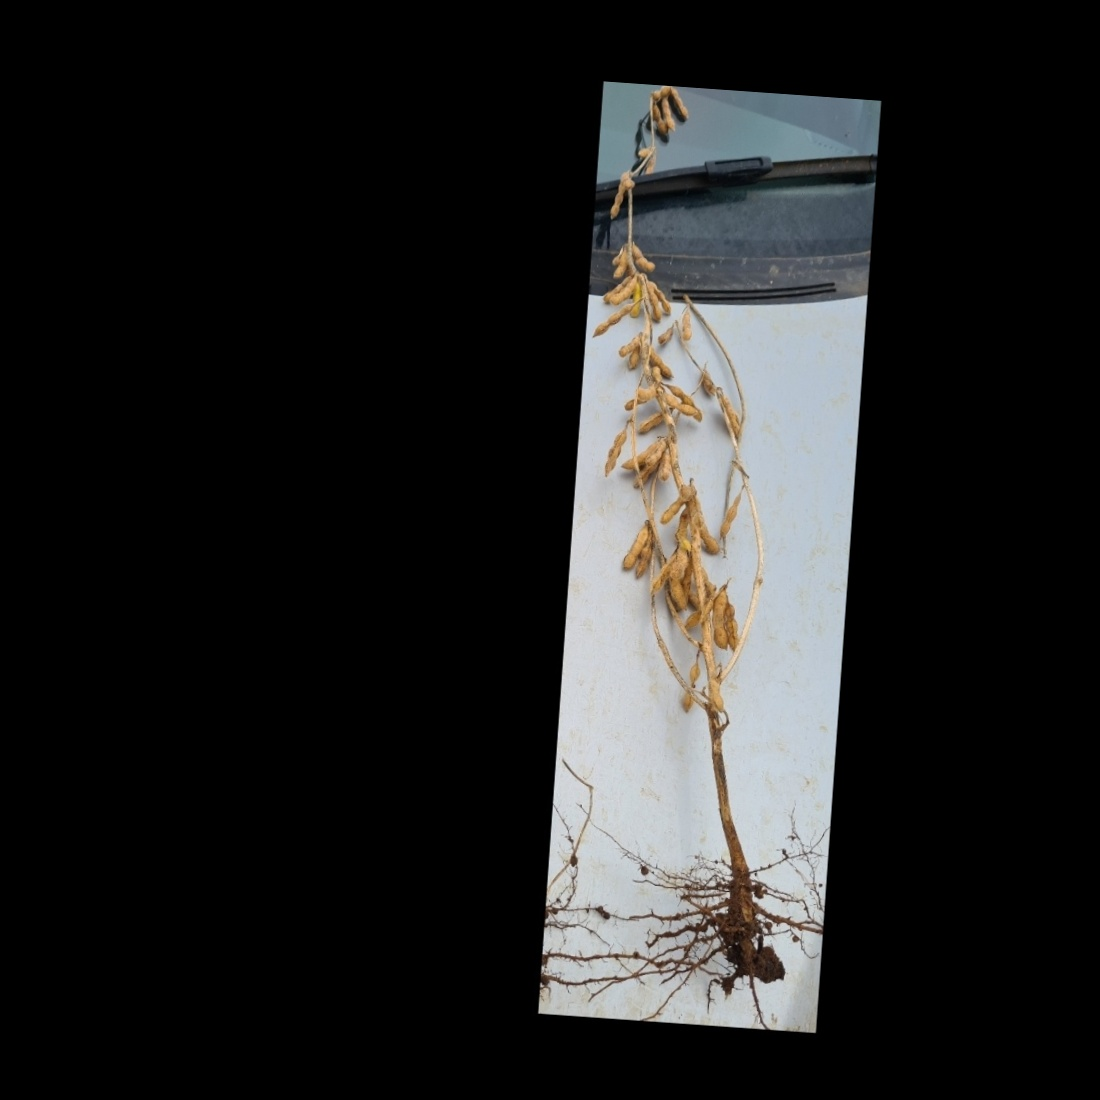pod: (714, 483, 751, 543), (708, 583, 737, 651), (599, 422, 631, 485), (590, 299, 634, 341), (617, 524, 650, 576), (716, 598, 745, 653), (657, 487, 691, 529), (604, 273, 640, 308), (664, 82, 693, 123), (661, 392, 706, 416), (606, 179, 630, 223), (647, 104, 671, 141), (659, 95, 679, 135)
soy: (550, 68, 863, 990)
